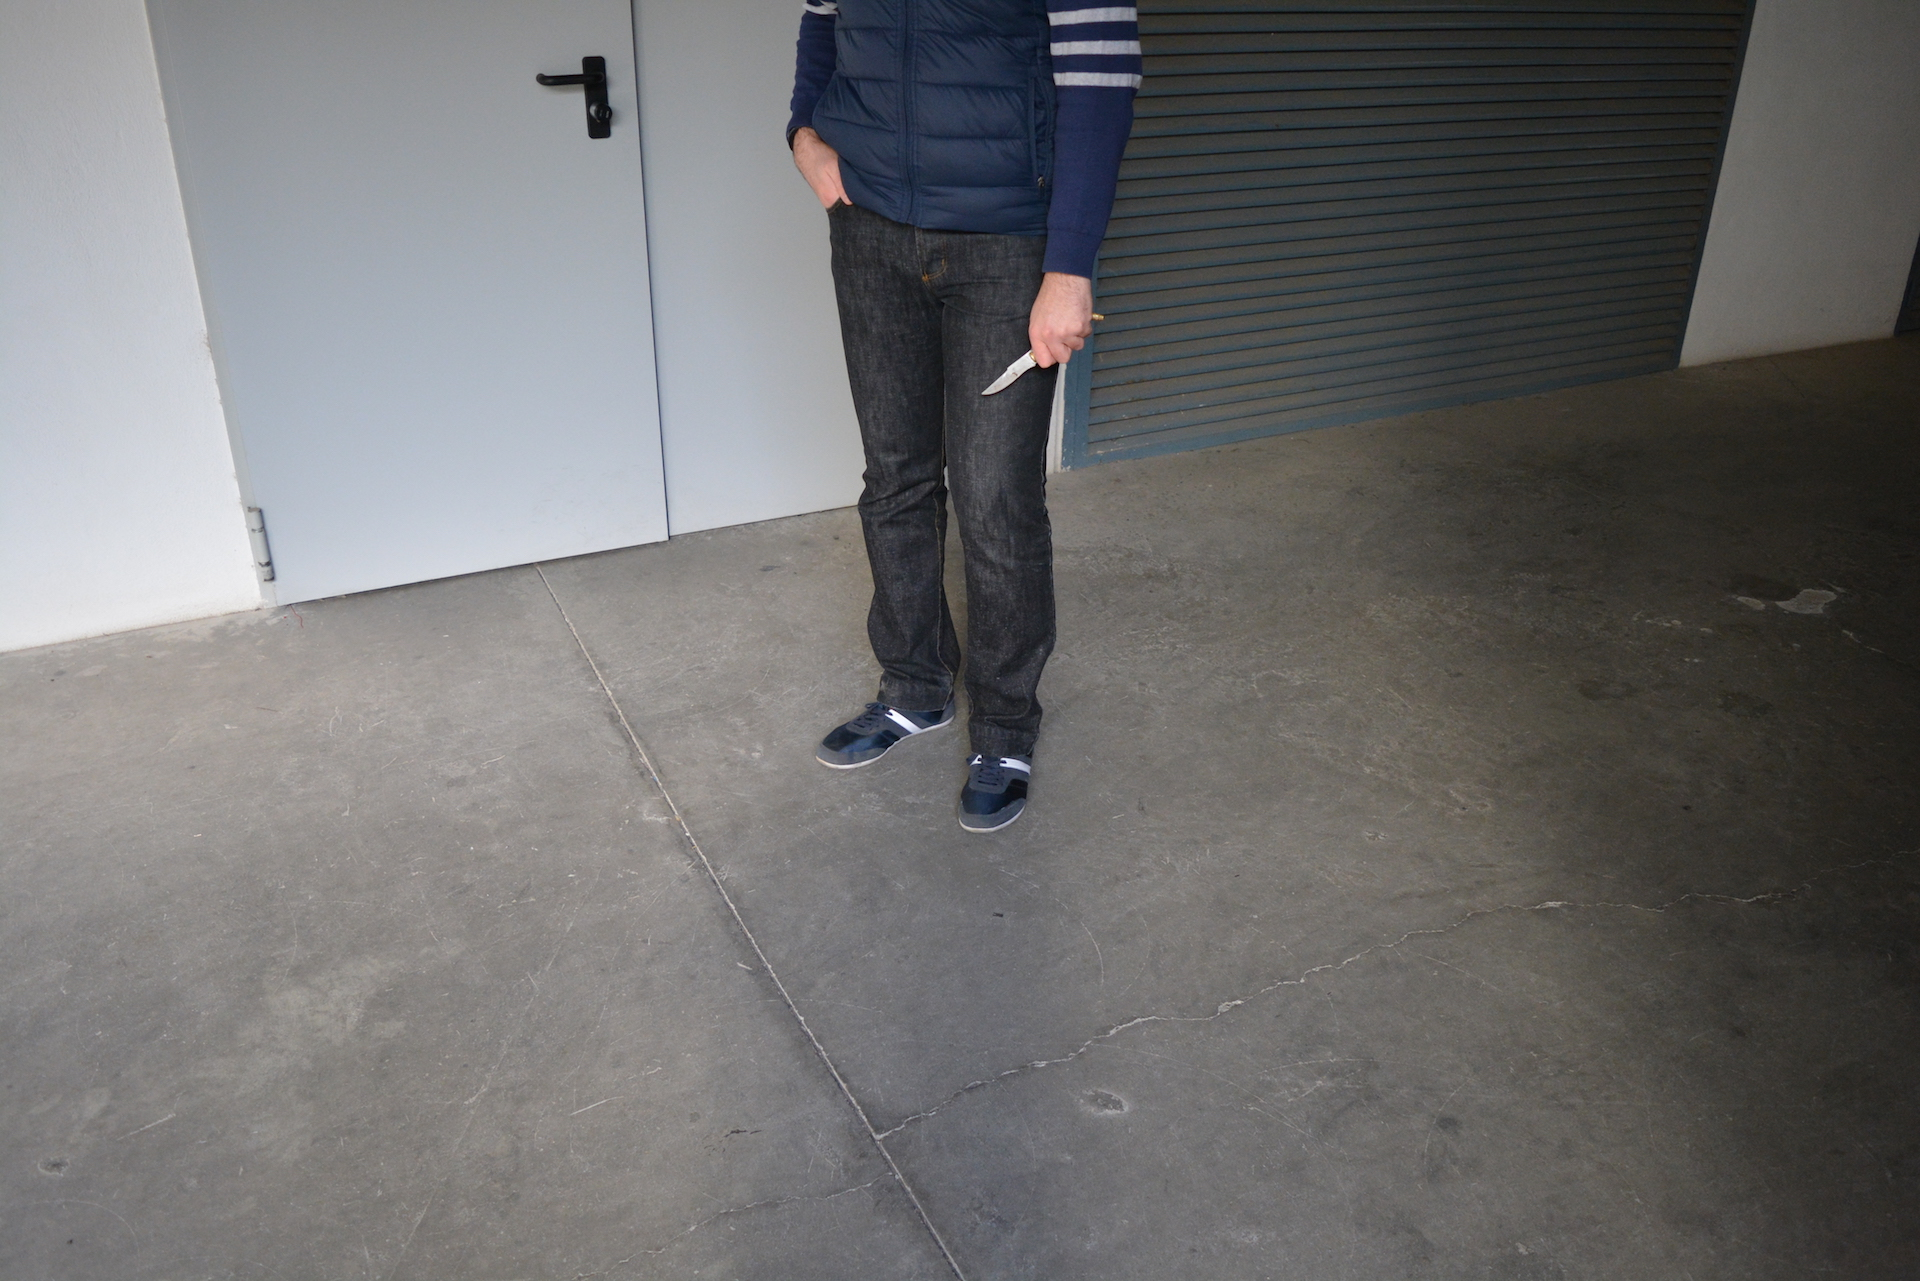knife: (972, 307, 1108, 403)
